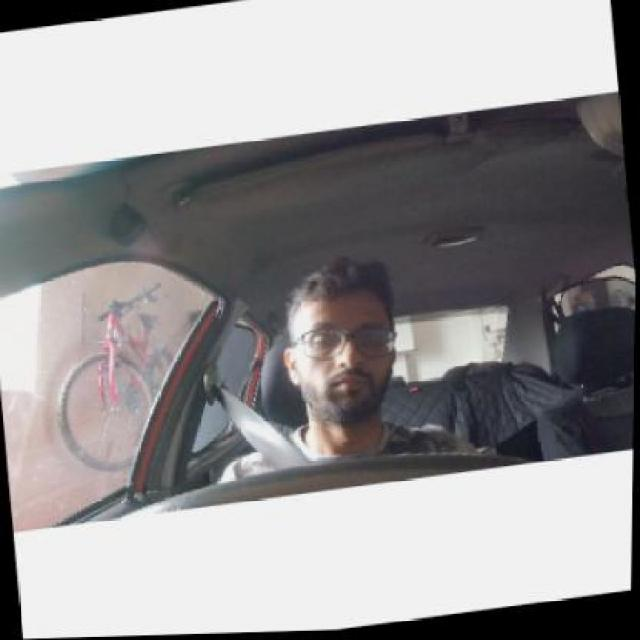person: (278, 255, 409, 439)
